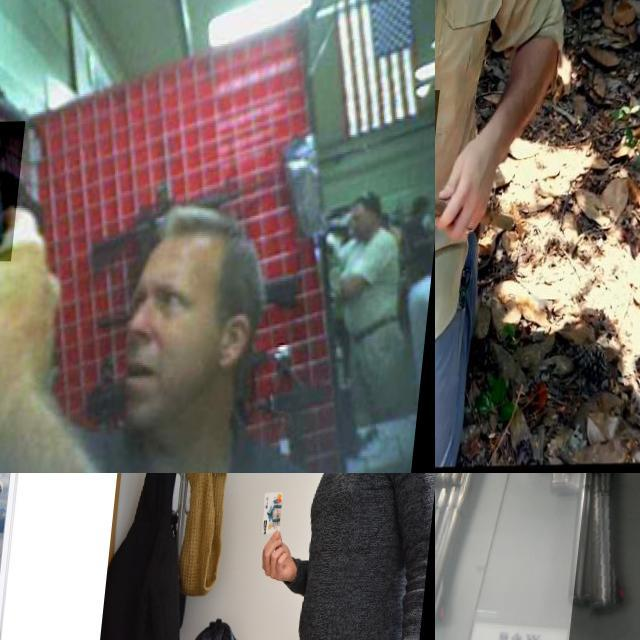-: (435, 91, 483, 193)
gun-knife-thesis - v11 Yolov5 augmented: (471, 473, 640, 616), (435, 473, 640, 559), (435, 473, 509, 635), (579, 473, 640, 640), (435, 473, 570, 532), (435, 473, 479, 640), (0, 122, 49, 263), (435, 473, 482, 558)
